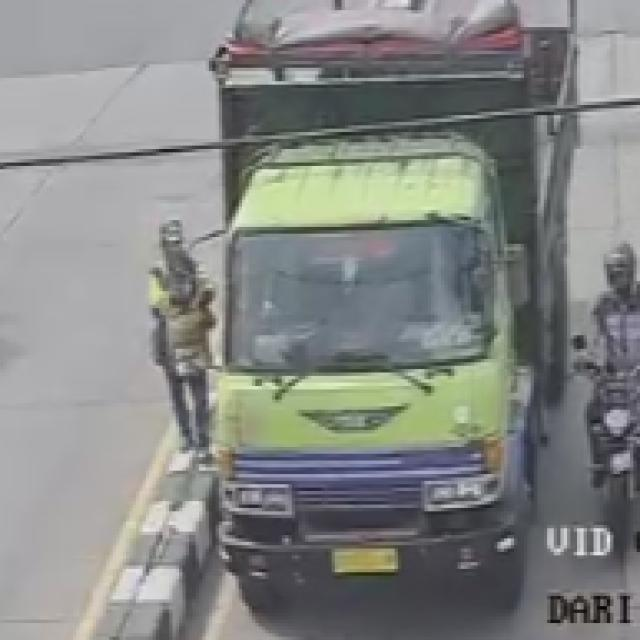truck: (182, 5, 572, 601)
